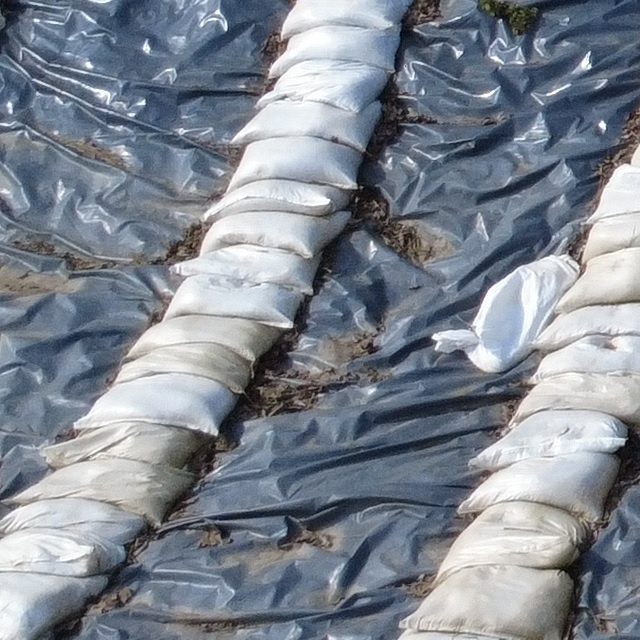sandbag: (433, 255, 579, 373), (403, 567, 573, 640), (12, 459, 192, 525), (438, 502, 586, 582), (460, 453, 619, 524), (76, 374, 236, 436), (470, 411, 627, 472), (233, 101, 381, 153), (128, 316, 281, 366), (226, 137, 361, 193), (43, 423, 204, 469), (165, 276, 302, 330), (174, 246, 321, 296), (0, 573, 107, 640), (270, 26, 400, 79), (257, 61, 389, 113), (0, 499, 146, 546), (200, 212, 349, 258), (115, 344, 251, 394), (511, 374, 640, 426), (204, 180, 354, 223), (557, 249, 640, 314), (281, 0, 411, 39), (535, 304, 640, 352), (533, 336, 640, 383), (591, 146, 640, 222), (582, 215, 640, 263), (400, 633, 497, 640)
